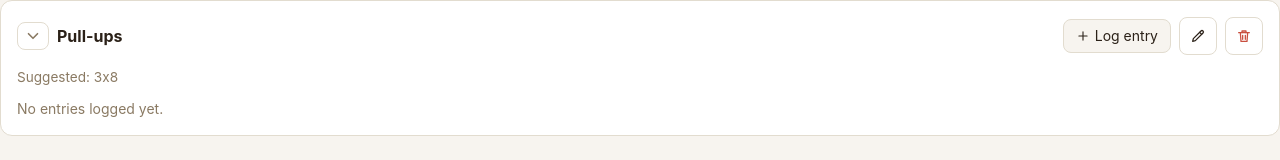
Test: ExerciseCard collapse › toggle button shows a chevron (no text arrow) that turns with the state, and exposes aria-expanded
The width and height of the screenshot is (1280, 160).
Click the button with test id "exercise-toggle" at (33, 36), box [17,22,49,50]
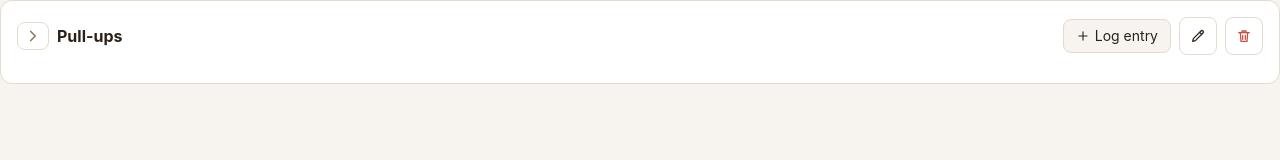
Check: the button with test id "exercise-toggle" is collapsed, box [17,22,49,50]
